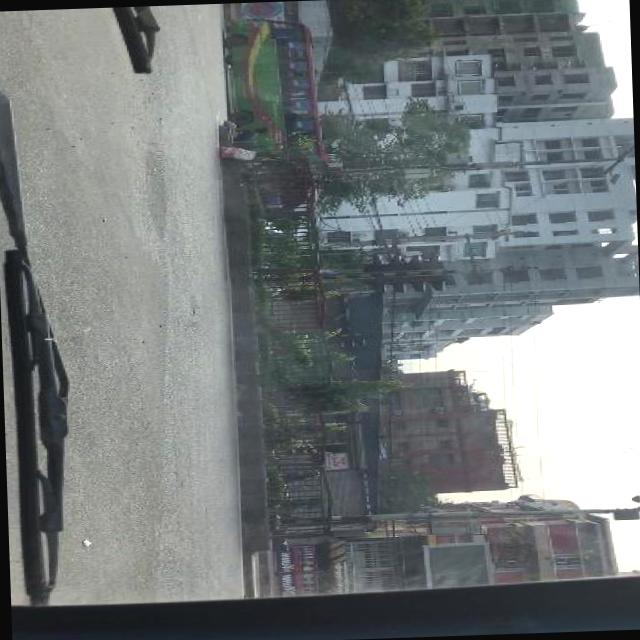bus: (222, 17, 327, 166)
